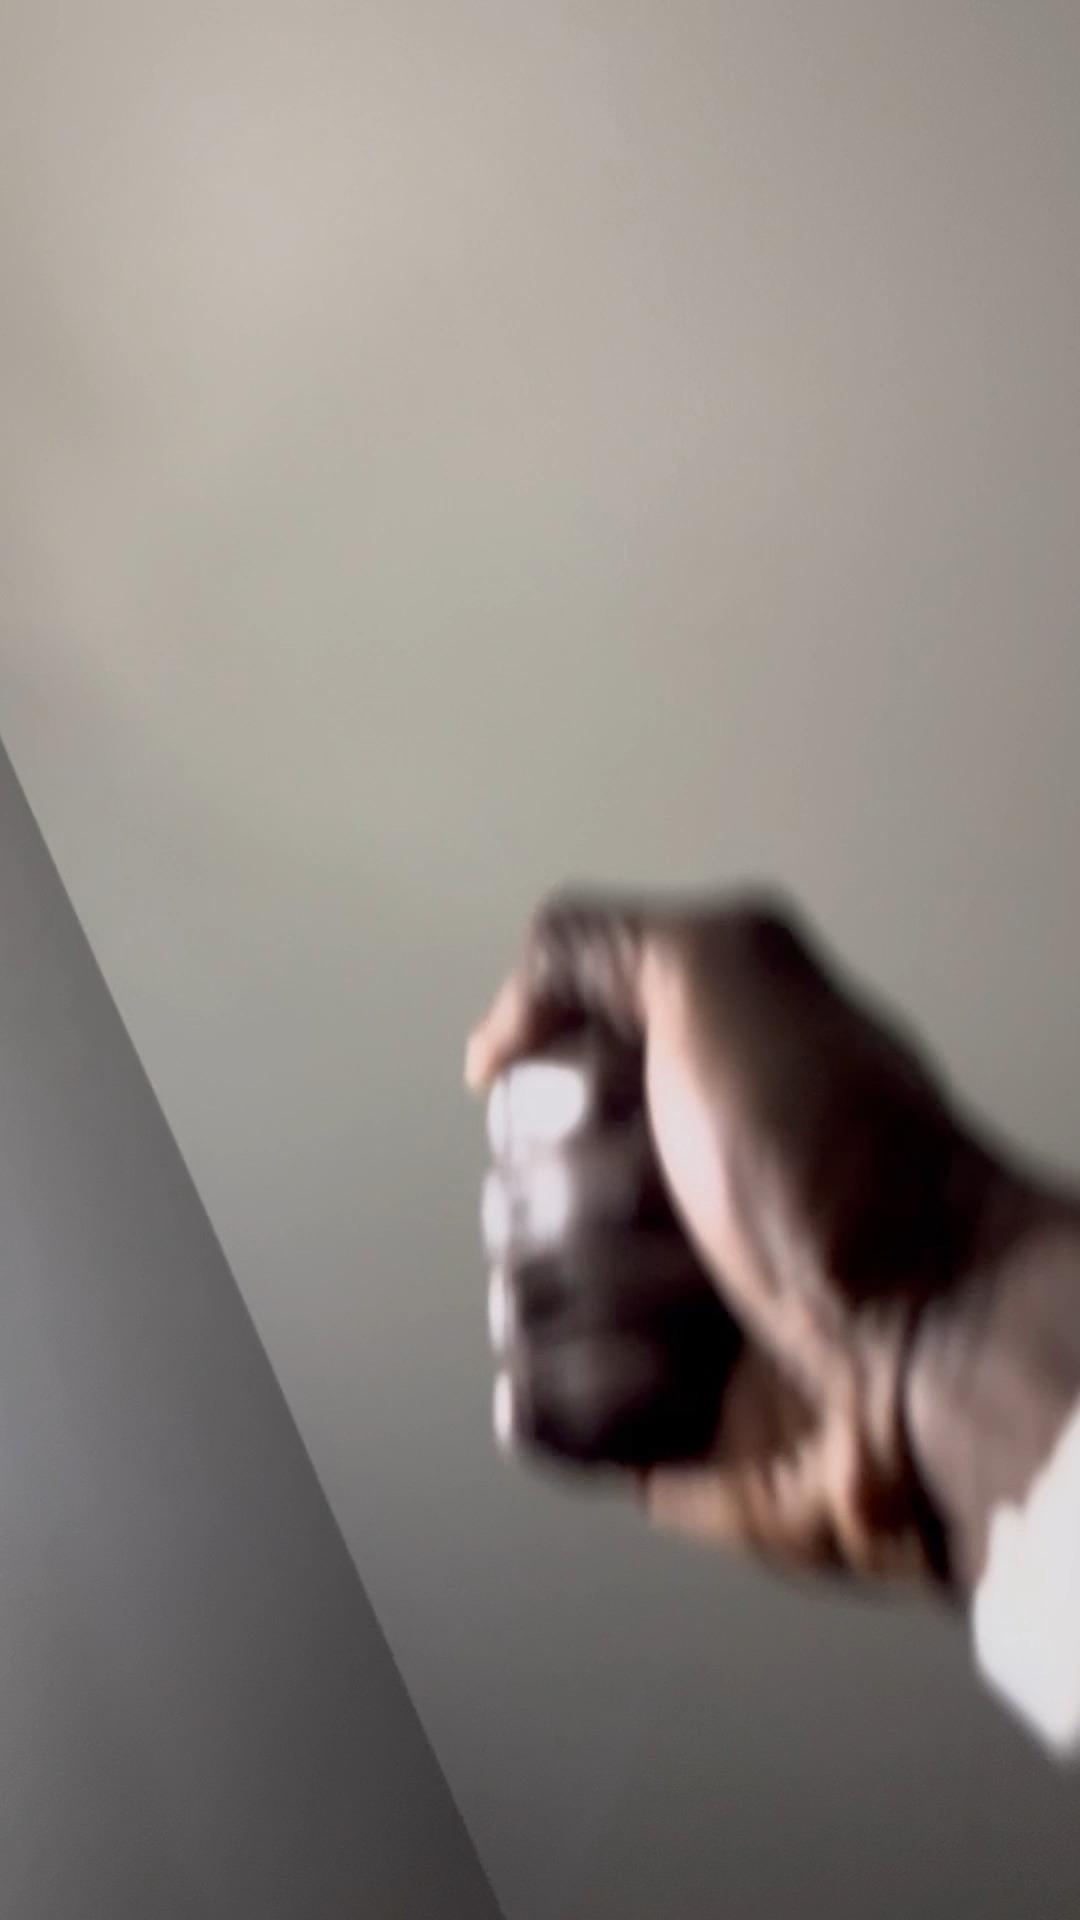Rock: (463, 860, 1080, 1609)
